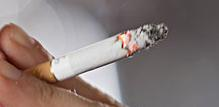smoke: (0, 22, 170, 93)
